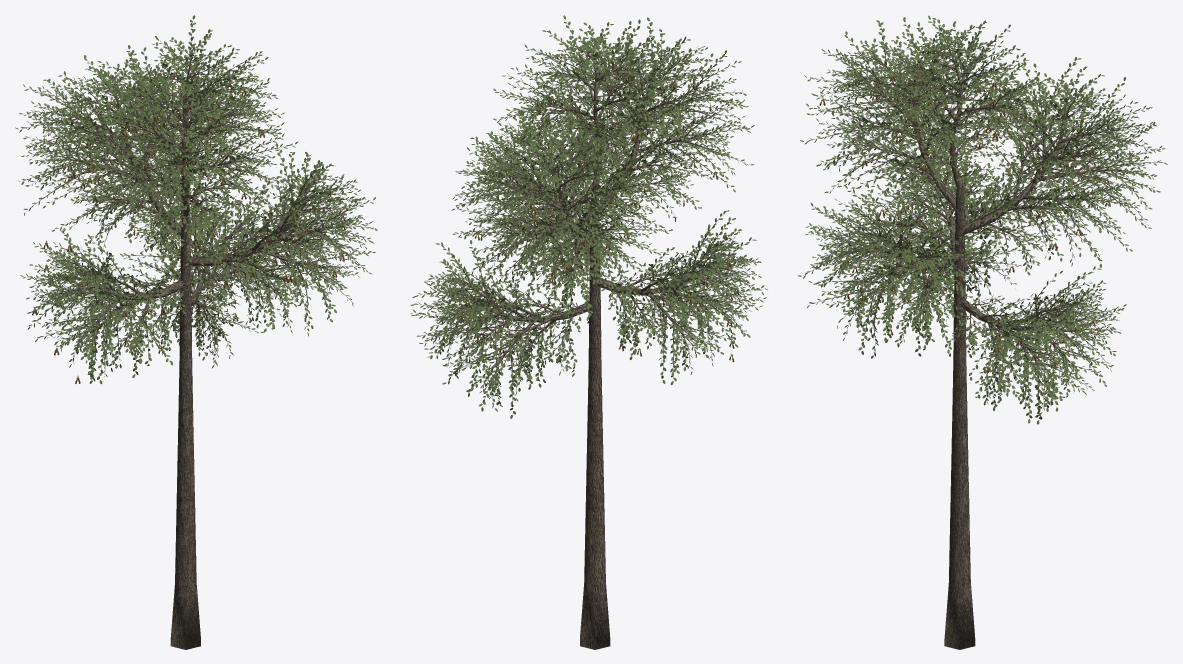
File: tree.fbx
3 renders of one model, left to right at view 1: azimuth 30°, elevation 25°; view 2: azimuth 150°, elevation 25°; view 3: azimuth 270°, elevation 25°, orthographic.
Parts seen in each view (by area): view 1: tree.leaves, tree, tree.fruits.1; view 2: tree.leaves, tree, tree.fruits.1; view 3: tree.leaves, tree, tree.fruits.1.
Boxes of the visible parts, left/top/right/bottom form: tree.leaves: left=15, top=15, right=377, bottom=384; tree: left=25, top=22, right=373, bottom=649; tree.fruits.1: left=32, top=70, right=345, bottom=383; tree.leaves: left=410, top=15, right=767, bottom=418; tree: left=416, top=23, right=760, bottom=649; tree.fruits.1: left=463, top=37, right=739, bottom=387; tree.leaves: left=798, top=15, right=1167, bottom=424; tree: left=805, top=22, right=1162, bottom=649; tree.fruits.1: left=819, top=68, right=1110, bottom=392.
Bounding box in the file's own units: 2530 × 4640 × 2563.
4 materials, 3 textured.
